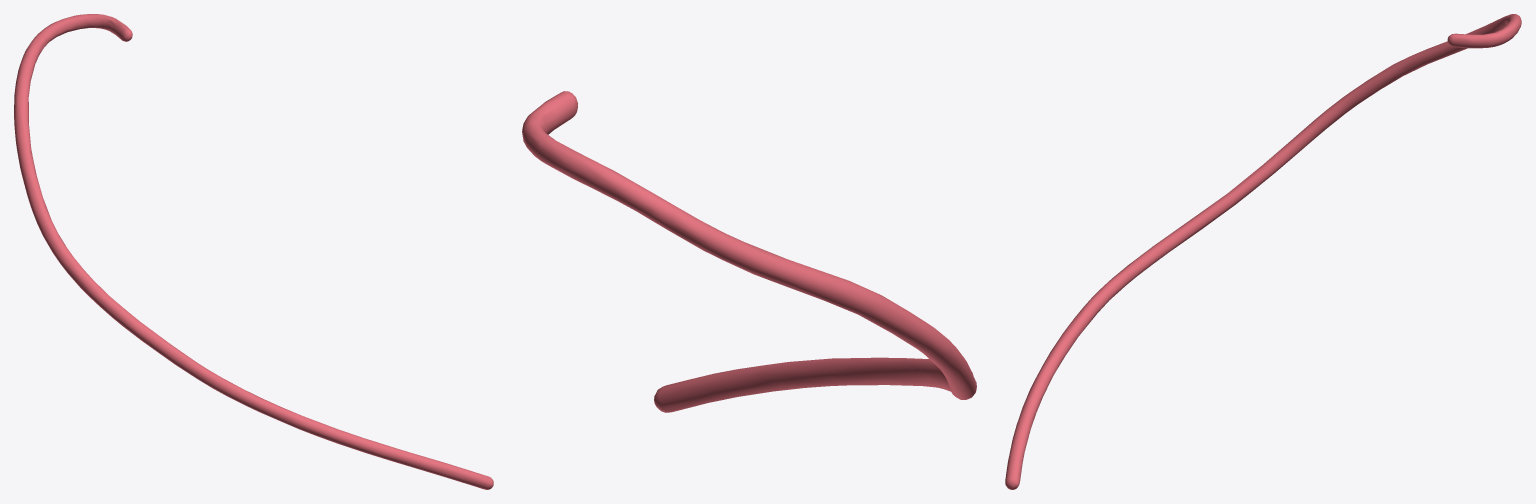
File: fma66242_fj1939.glb
3 renders of one model, left to right at view 1: azimuth 30°, elevation 25°; view 2: azimuth 150°, elevation 25°; view 3: azimuth 270°, elevation 25°, orthographic. The views are drawn at different scales.
Parts seen in each view (by area): view 1: FMA66242_FJ1939; view 2: FMA66242_FJ1939; view 3: FMA66242_FJ1939.
Boxes of the visible parts, left/top/right/bottom form: FMA66242_FJ1939: left=14, top=14, right=493, bottom=489; FMA66242_FJ1939: left=522, top=91, right=976, bottom=412; FMA66242_FJ1939: left=1005, top=14, right=1521, bottom=489.
Bounding box in the file's own units: 0.0491 × 0.0549 × 0.0687.
